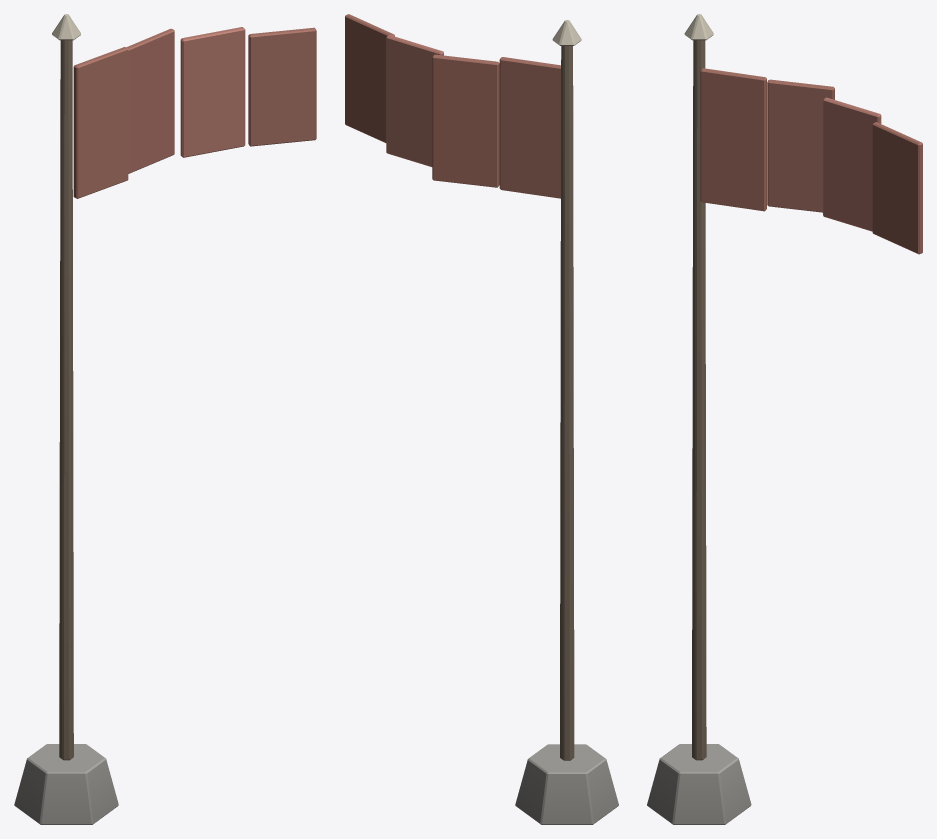
File: iv_flag.glb
3 renders of one model, left to right at view 1: azimuth 30°, elevation 25°; view 2: azimuth 150°, elevation 25°; view 3: azimuth 330°, elevation 25°, orthographic.
Visible parts, largest first — view 1: iv_flag; view 2: iv_flag; view 3: iv_flag.
Boxes of the visible parts, bbox=[...] form: iv_flag: bbox=[14, 14, 316, 824]; iv_flag: bbox=[345, 14, 618, 824]; iv_flag: bbox=[647, 14, 922, 824].
Size of the model in its own units: 2.4 by 6.57 by 0.785.
